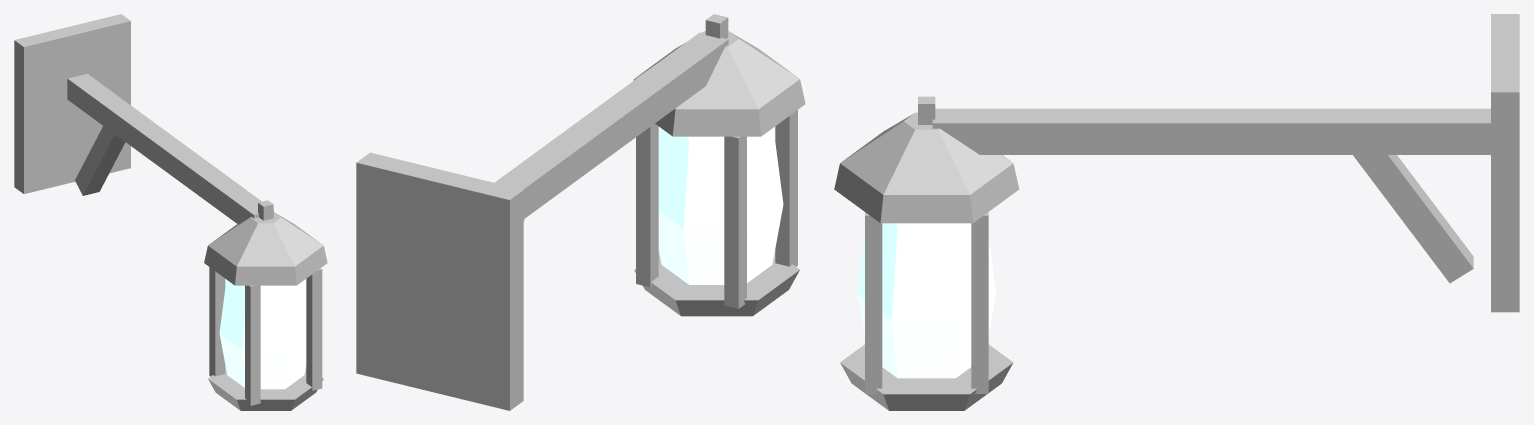
The model's file is ci_lamp.glb.
3 views of the same model, side by side, from view 1: azimuth 30°, elevation 25°; view 2: azimuth 150°, elevation 25°; view 3: azimuth 270°, elevation 25° (orthographic). The views are drawn at different scales.
Parts seen in each view (by area): view 1: ci_lamp; view 2: ci_lamp; view 3: ci_lamp.
Part boxes in pixels (box(x1,y1,x2,y2)): ci_lamp: box(14, 14, 327, 410); ci_lamp: box(356, 14, 805, 410); ci_lamp: box(834, 14, 1519, 410).
Size of the model in its own units: 0.32 by 0.63 by 1.18.
